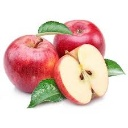apple: (55, 46, 110, 104)
